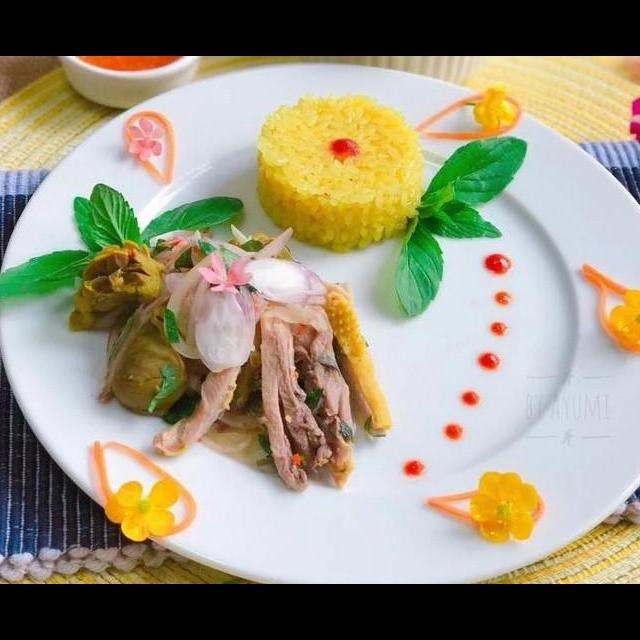com: (252, 86, 430, 257)
com ga: (90, 99, 565, 584)
thit ga: (141, 263, 397, 495)
